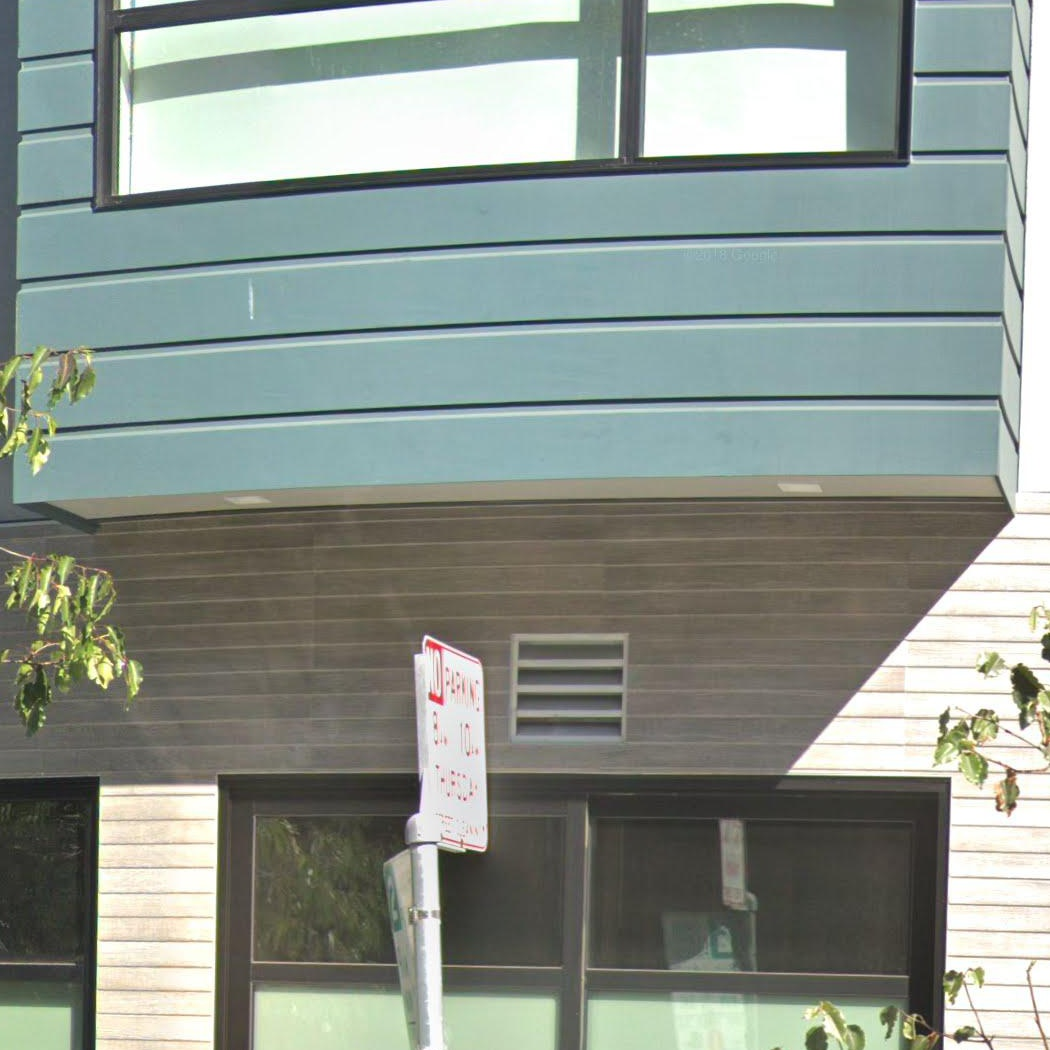No Parking: (420, 632, 489, 852)
